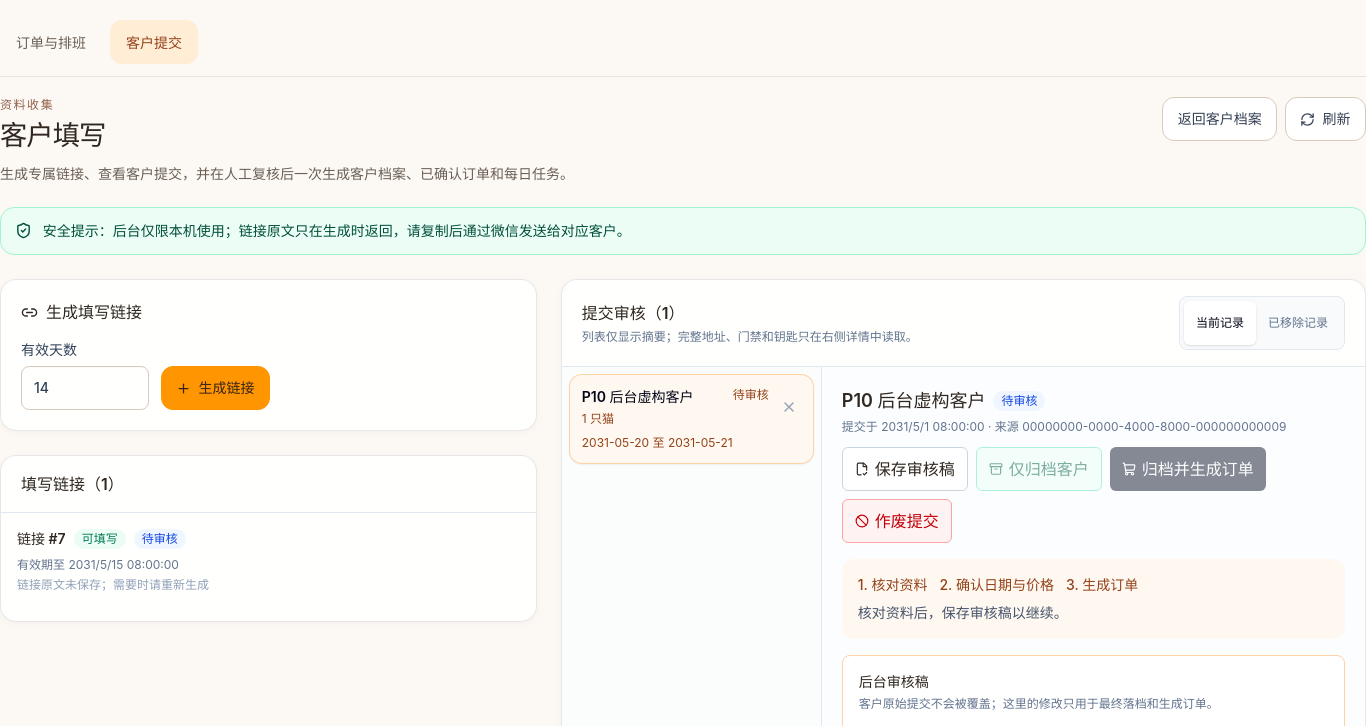
Scenario: preserves a new link across the 30-second background refresh
Click the button "生成链接" at point(216, 388), box 161,366 -> 270,410
Wait 30000 ms
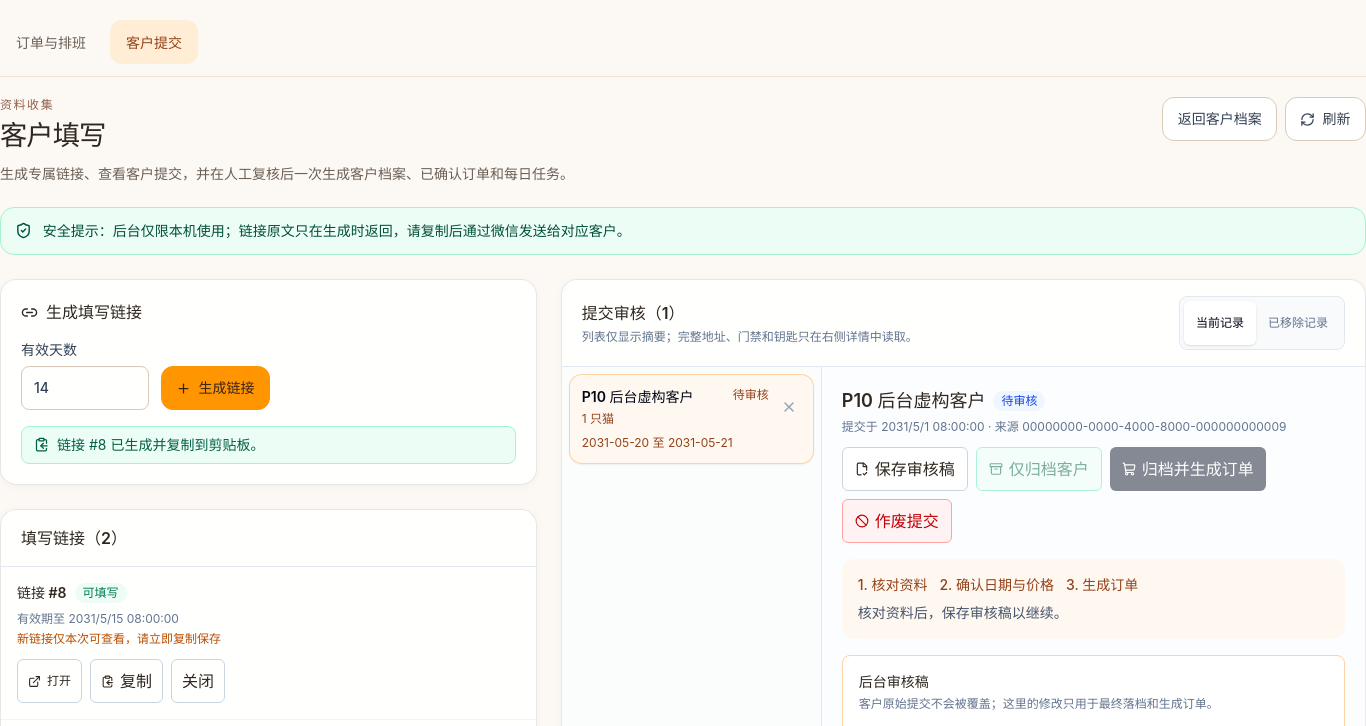
Expected: the link "打开" is shown, 17,659 -> 82,703
Expected: the button "复制" is shown, 90,659 -> 163,703
